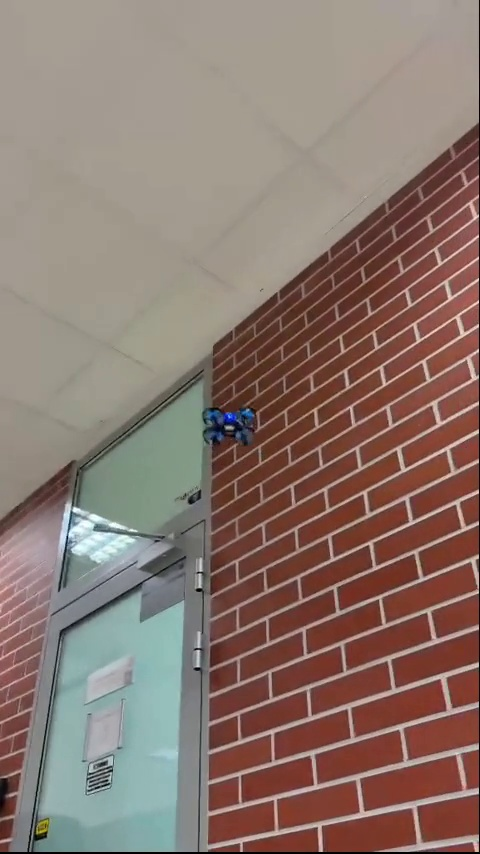drone: (198, 402, 265, 455)
